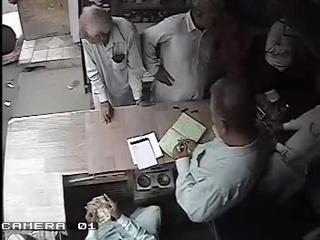Normal: (172, 76, 278, 235), (142, 0, 228, 104), (78, 5, 148, 125), (84, 190, 158, 240), (158, 112, 207, 160)
